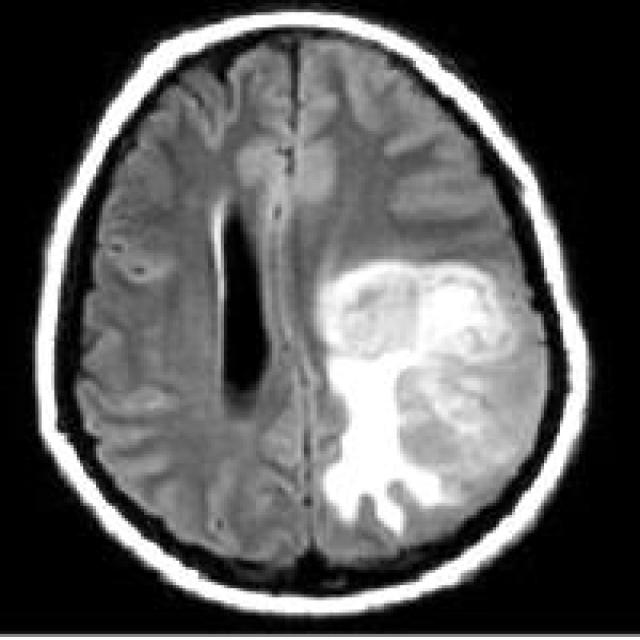Tumor-Cell: (309, 258, 483, 504)
